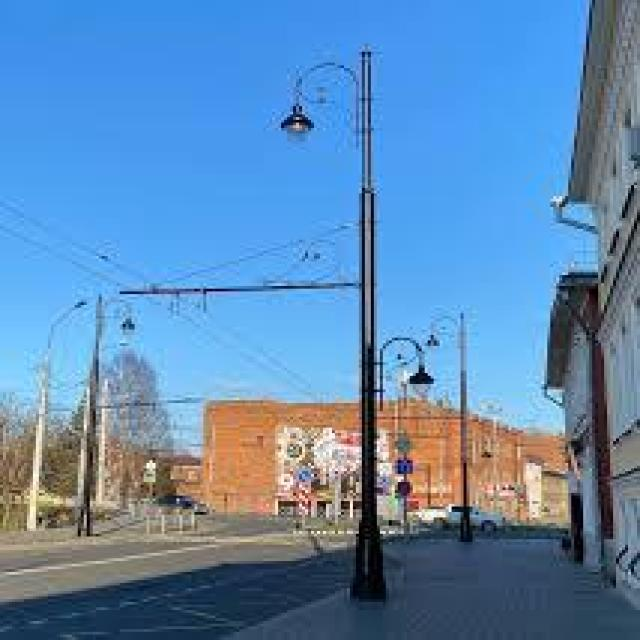pole: (344, 195, 402, 625)
